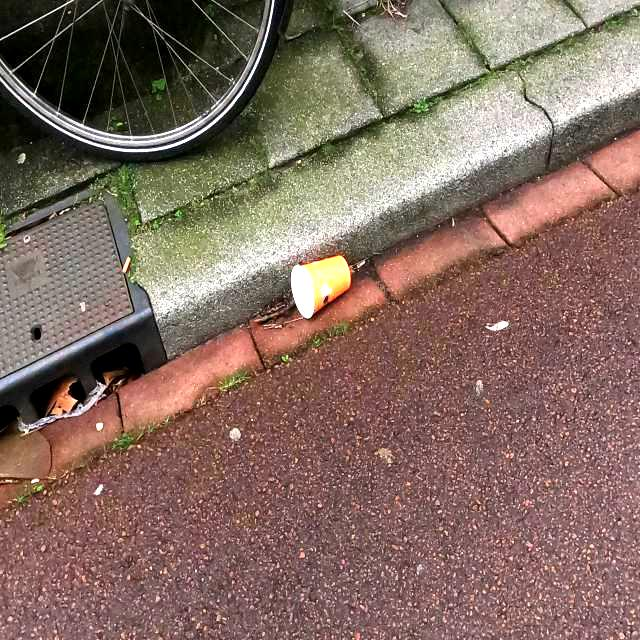Coffee Cup: (282, 246, 362, 320)
